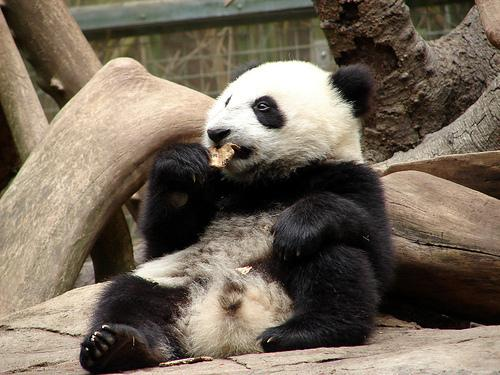panda: (79, 61, 394, 372)
